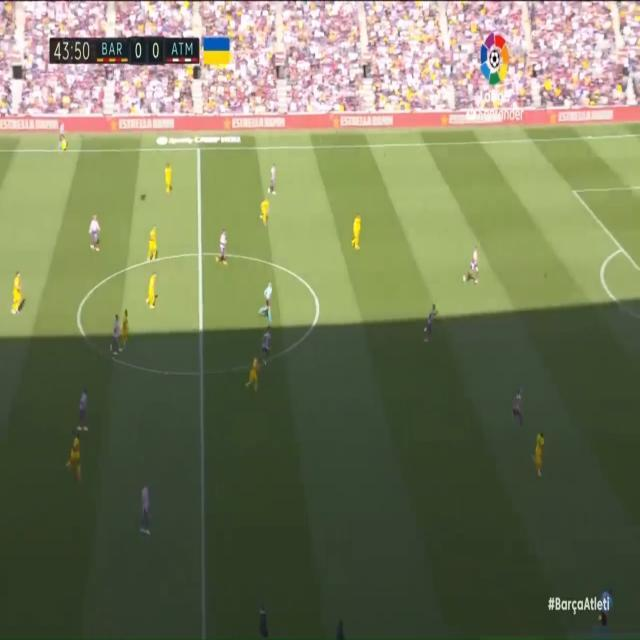ball: (543, 270, 551, 286)
player: (136, 479, 154, 542), (64, 431, 84, 483), (511, 385, 530, 435), (244, 353, 265, 398), (10, 268, 26, 327), (422, 298, 441, 346), (348, 213, 369, 255), (464, 245, 483, 287), (83, 212, 102, 252), (533, 431, 547, 479), (214, 227, 230, 268), (268, 163, 285, 201), (146, 268, 159, 317), (145, 221, 159, 264), (259, 327, 275, 364), (121, 309, 134, 354), (110, 316, 123, 359), (163, 162, 177, 201), (76, 388, 88, 432), (257, 195, 272, 229)
referee: (596, 579, 616, 624), (257, 277, 276, 322), (55, 118, 71, 155)
